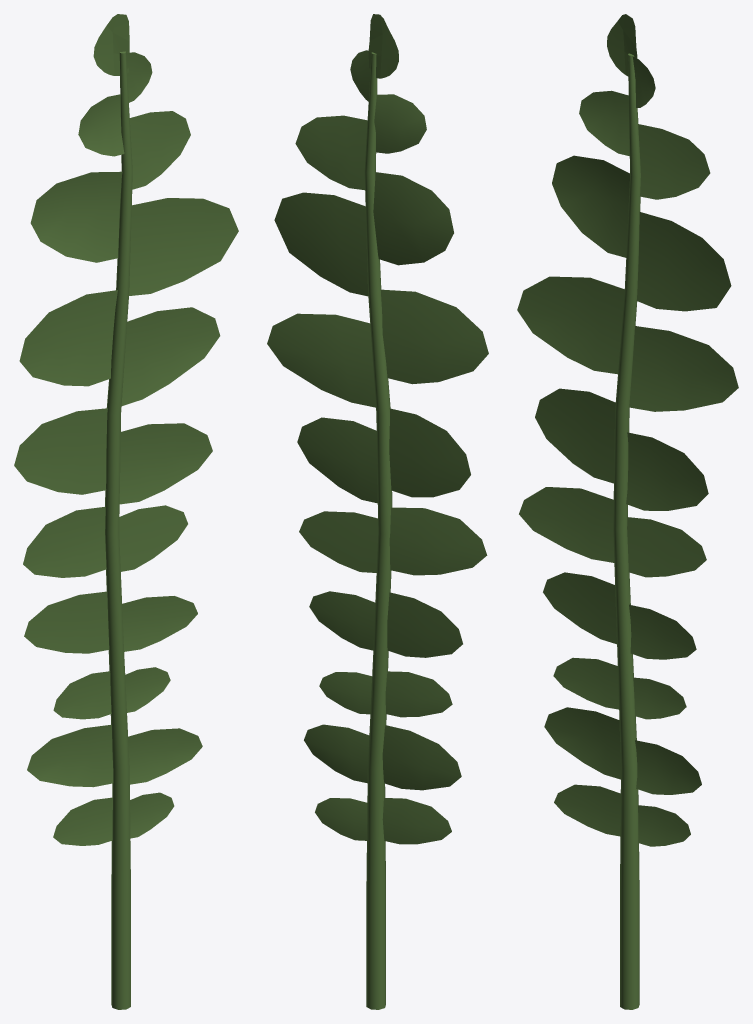
File: Grass_Fishbone_Cactus.fbx
The picture shows the model from 3 angles, left to right: view 1: azimuth 30°, elevation 25°; view 2: azimuth 150°, elevation 25°; view 3: azimuth 330°, elevation 25°; orthographic projection.
Parts seen in each view (by area): view 1: grass2; view 2: grass2; view 3: grass2.
Boxes of the visible parts, x1,y1,x2,y2 form: grass2: [14, 14, 238, 1009]; grass2: [267, 14, 488, 1009]; grass2: [517, 14, 738, 1009].
Bounding box in the file's own units: 542 × 2370 × 66.06.
